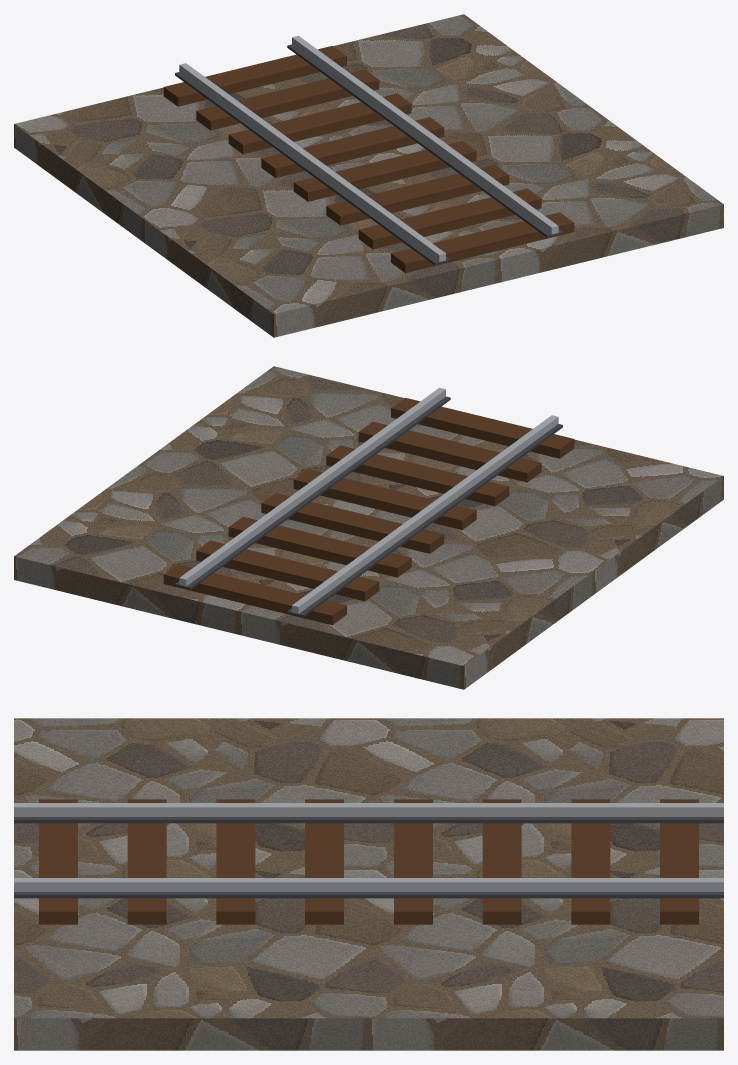
File: mine_floor_rails.glb
The picture shows the model from 3 angles, top to bottom: view 1: azimuth 30°, elevation 25°; view 2: azimuth 150°, elevation 25°; view 3: azimuth 270°, elevation 25°; orthographic projection. The views are drawn at different scales.
Parts seen in each view (by area): view 1: mine_floor_rails; view 2: mine_floor_rails; view 3: mine_floor_rails.
Boxes of the visible parts, x1,y1,x2,y2 form: mine_floor_rails: (14, 14, 723, 337); mine_floor_rails: (14, 366, 723, 689); mine_floor_rails: (14, 718, 723, 1050).
Size of what is drawn, in the model's own units: 4 by 0.36 by 4.
Materials: 4 (1 with a texture image).
